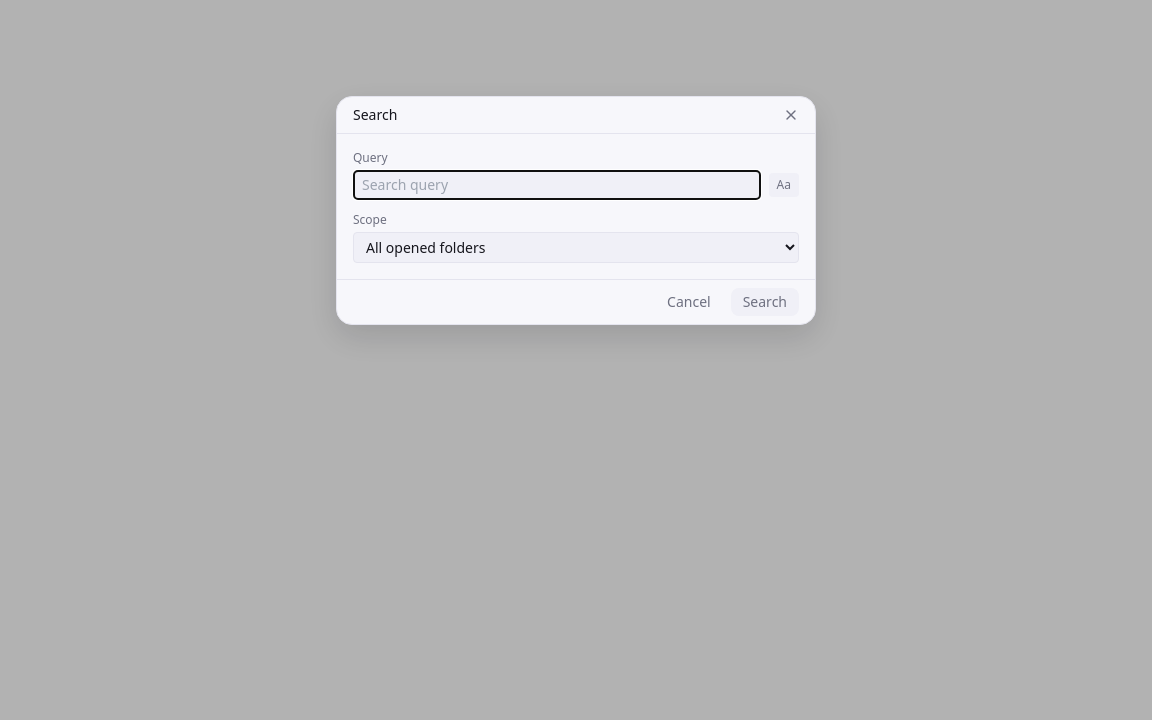
Scenario: SearchModal › enables the Search button when query is non-empty
The image size is (1152, 720).
Type "start" into the field with placeholder "Search query".
click(557, 185); type("start")  # box [353,170,761,200]
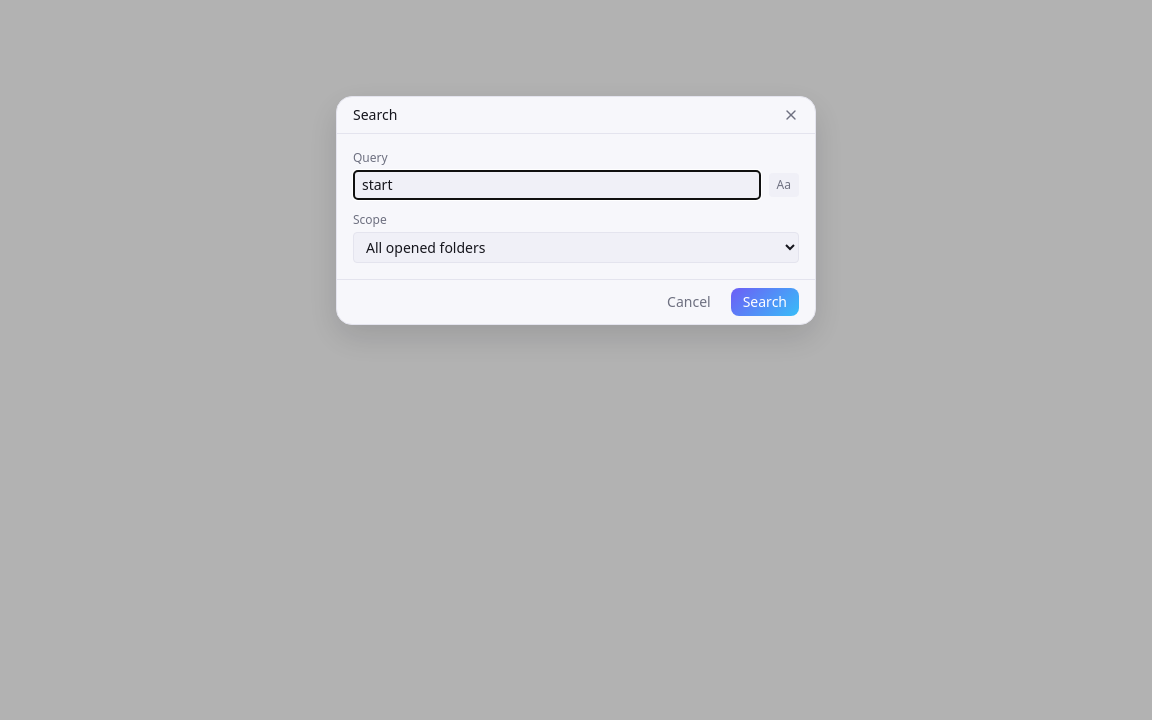
Result: the button "Search" is enabled at [731,288,799,316]
